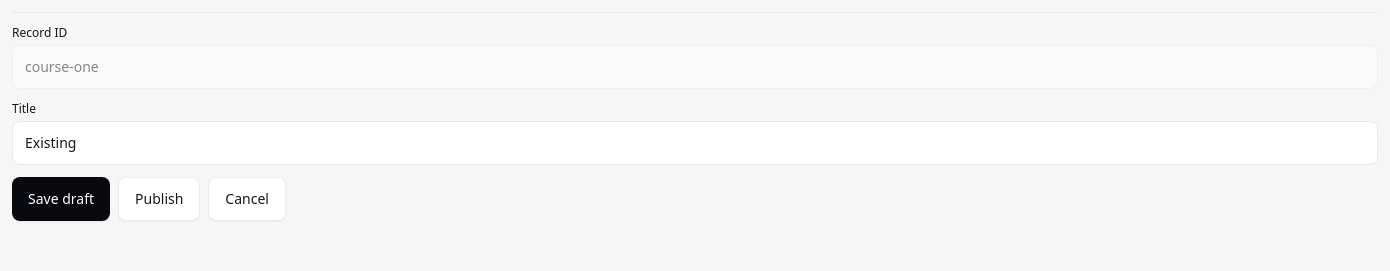
Test: NUI-05 Host domain editor › treats conflict outcomes as denials even if the HTTP status is 200
Click the button "Publish" at (159, 199), box [118,177,200,221]
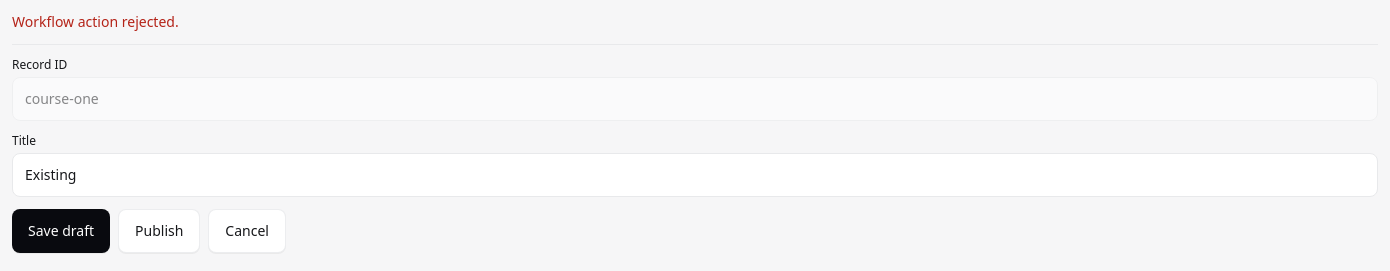
Check: the message "Workflow action rejected." is shown, box [12,12,179,31]
